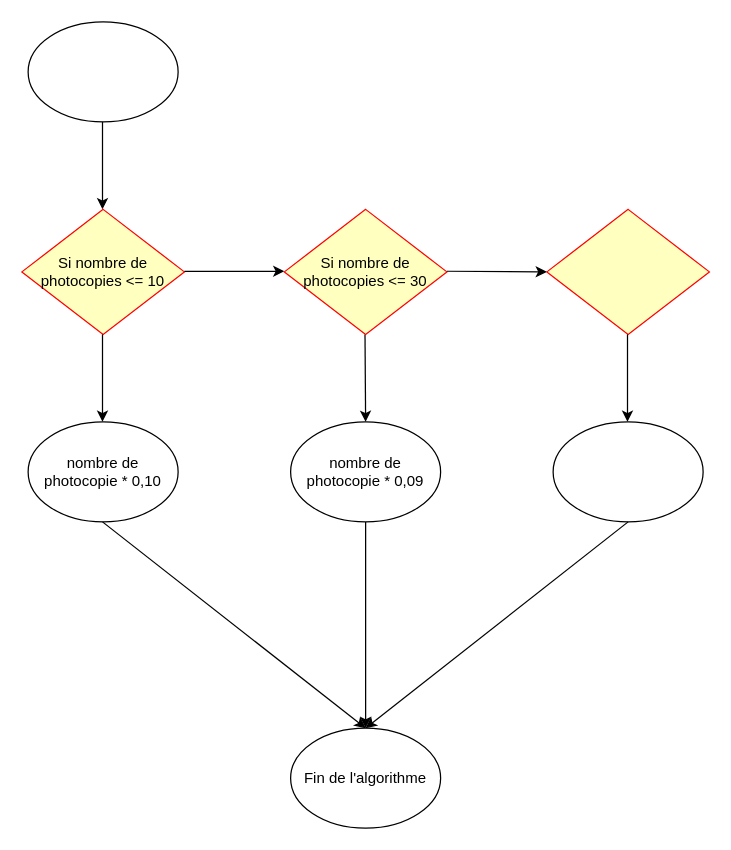
This 731x850 diagram has some shape labels left out. The box of each missing label's shape, as (x1, y1, x2, y2) in pixels:
Cela vous coûtera 4,40 €: (552, 421, 703, 522)
Entrez le nombre de photocopies souhaité: (27, 21, 178, 122)
Si nombre de photocopies <= 50: (546, 208, 709, 334)
